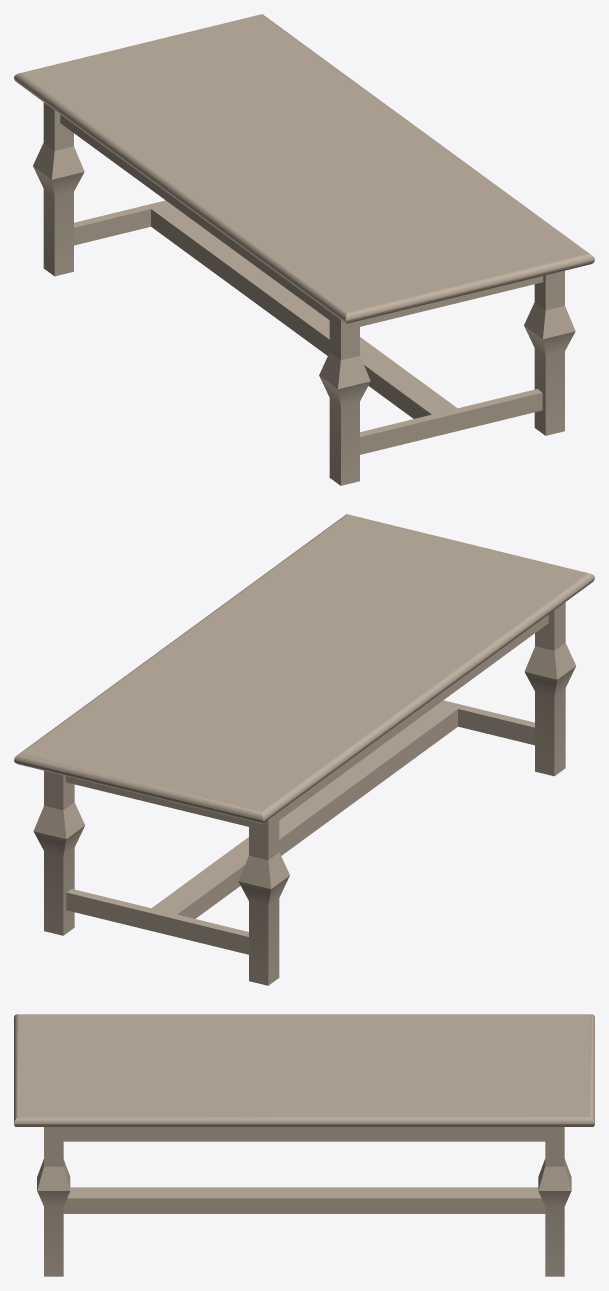
The model's file is GrandeTable_67.fbx.
3 views of the same model, one above another, from view 1: azimuth 30°, elevation 25°; view 2: azimuth 150°, elevation 25°; view 3: azimuth 270°, elevation 25° (orthographic). The views are drawn at different scales.
Parts seen in each view (by area): view 1: pCube105, pCube107, polySurface28, polySurface29, polySurface31; view 2: pCube105, pCube107, polySurface29, polySurface28, polySurface30; view 3: pCube105, pCube107, polySurface31, polySurface30.
Part boxes in pixels (x1,y1,x2,y2): pCube105: (14, 14, 594, 326); pCube107: (74, 200, 542, 454); polySurface28: (319, 312, 370, 485); polySurface29: (33, 102, 84, 276); polySurface31: (524, 270, 575, 435); pCube105: (14, 514, 594, 826); pCube107: (66, 700, 534, 954); polySurface29: (238, 812, 289, 985); polySurface28: (524, 602, 575, 776); polySurface30: (33, 770, 84, 935); pCube105: (14, 1014, 594, 1141); pCube107: (63, 1187, 545, 1213); polySurface31: (37, 1127, 70, 1276); polySurface30: (538, 1127, 571, 1276).
Size of the model in its own units: 56.13 by 40.09 by 129.
